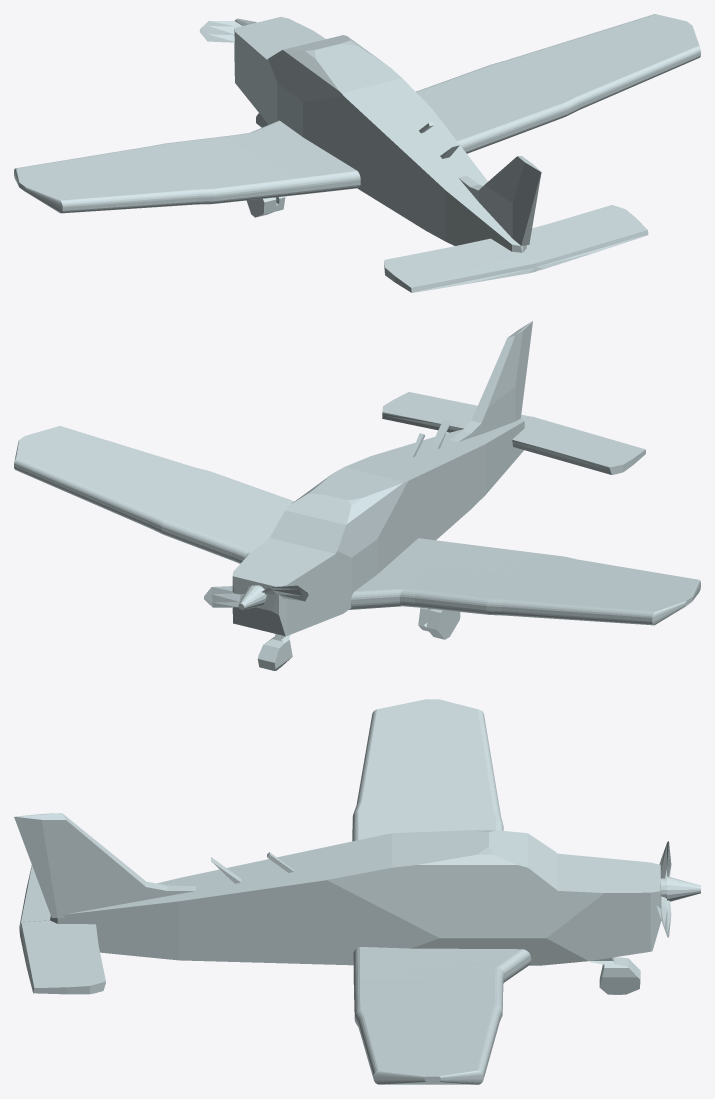
3 views of the same model, one above another, from view 1: azimuth 30°, elevation 25°; view 2: azimuth 150°, elevation 25°; view 3: azimuth 270°, elevation 25° (orthographic). The views are drawn at different scales.
Parts seen in each view (by area): view 1: Aircraft visual hull, Rotor 1790181487153-385yjvkuosf; view 2: Aircraft visual hull, Rotor 1790181487153-385yjvkuosf; view 3: Aircraft visual hull, Rotor 1790181487153-385yjvkuosf.
Boxes of the visible parts, bbox=[...] form: Aircraft visual hull: bbox=[14, 14, 700, 292]; Rotor 1790181487153-385yjvkuosf: bbox=[199, 18, 256, 42]; Aircraft visual hull: bbox=[14, 321, 700, 670]; Rotor 1790181487153-385yjvkuosf: bbox=[204, 585, 308, 609]; Aircraft visual hull: bbox=[14, 699, 661, 1084]; Rotor 1790181487153-385yjvkuosf: bbox=[656, 841, 700, 937].
Size of the model in its own units: 9.17 by 2.07 by 7.09.
